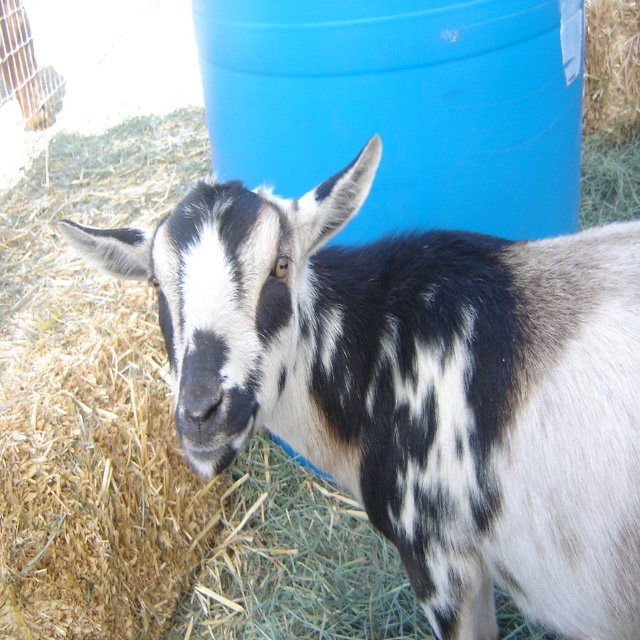Goat: (72, 109, 640, 619)
